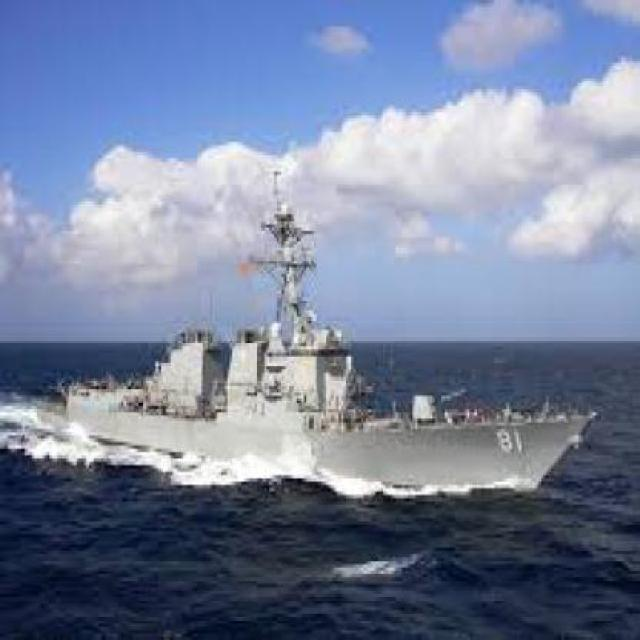warship2: (53, 205, 599, 509)
